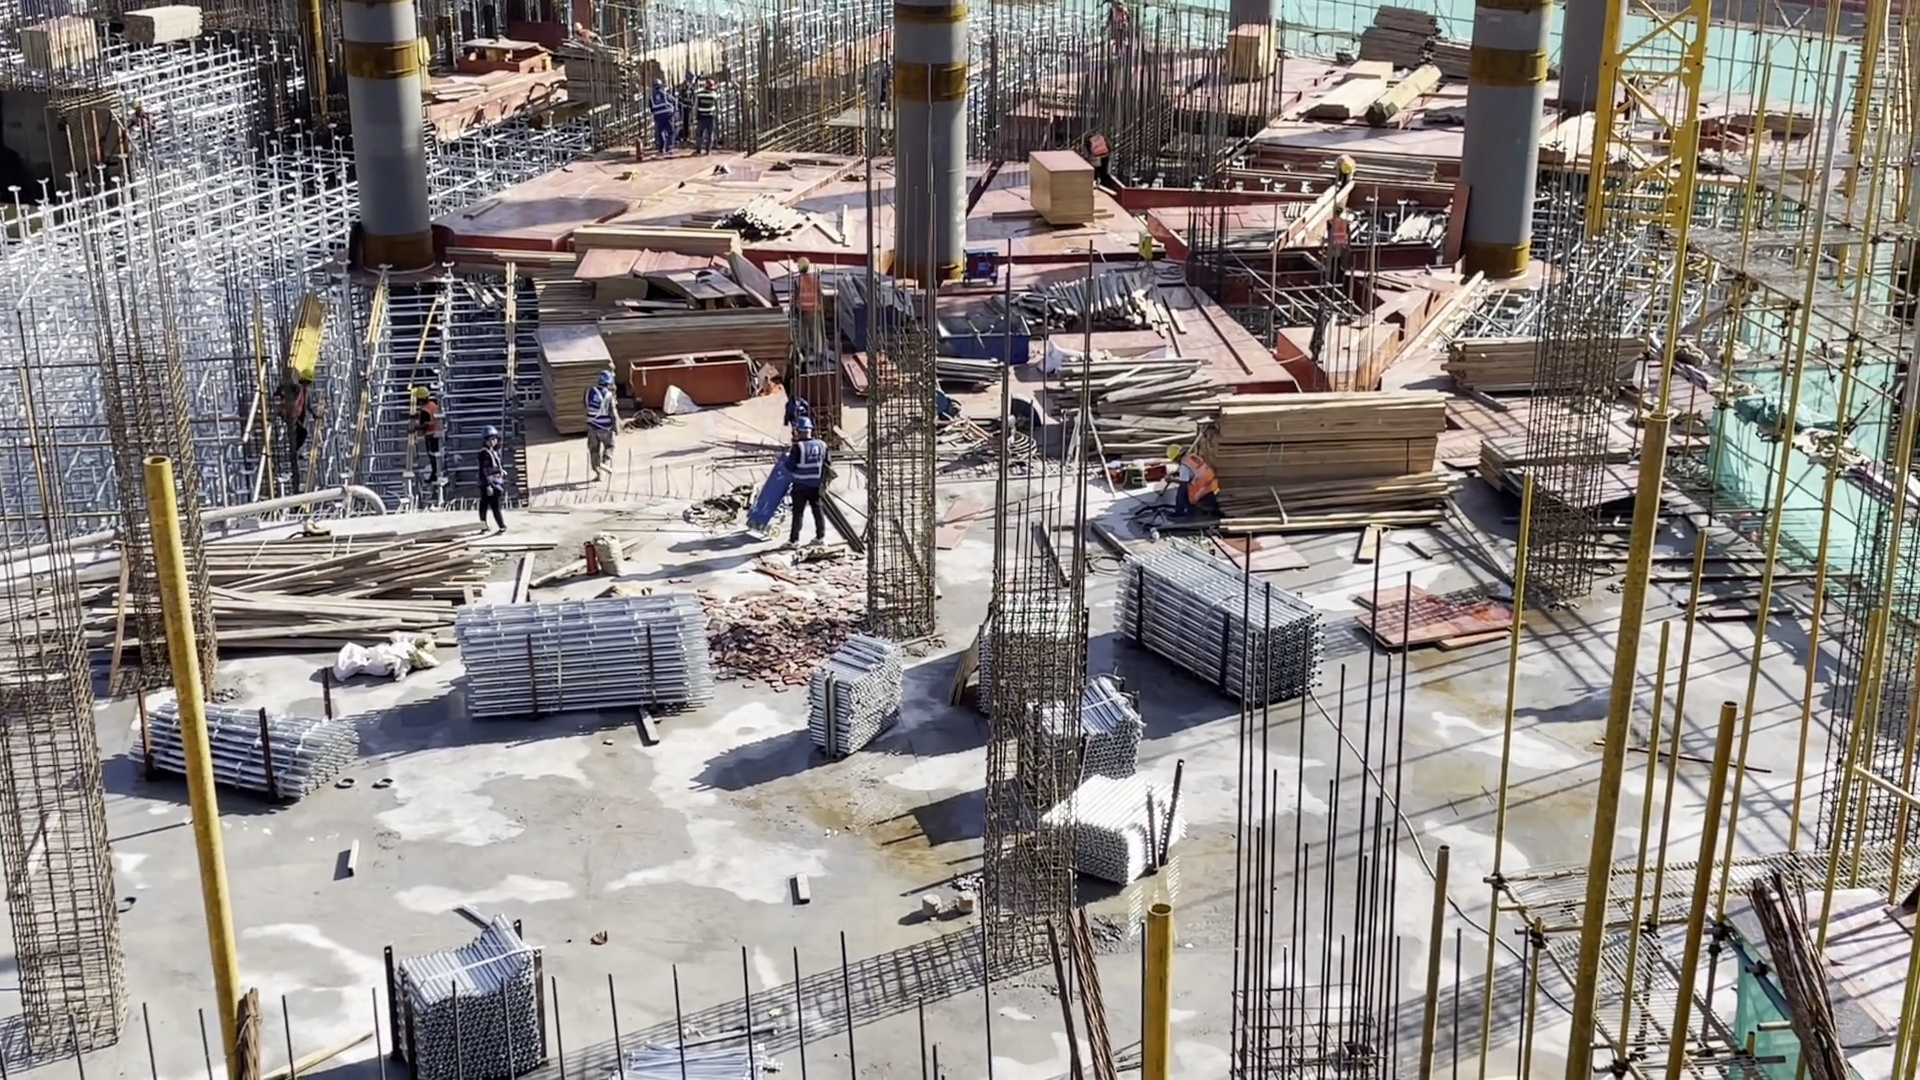board: (535, 327, 615, 432), (535, 262, 588, 327)
person: (781, 417, 824, 540), (580, 368, 622, 477), (1168, 440, 1222, 520), (471, 423, 506, 529), (280, 362, 315, 466), (407, 382, 446, 478), (786, 259, 822, 356), (644, 78, 669, 160), (693, 76, 716, 164), (1082, 128, 1109, 192), (1325, 204, 1347, 281), (677, 71, 693, 146), (1335, 153, 1356, 194)
scaffold: (1116, 546, 1320, 710), (459, 596, 711, 714), (139, 697, 370, 801), (392, 935, 547, 1065), (1054, 774, 1177, 884), (812, 635, 905, 757), (1058, 689, 1146, 773)
vest: (1180, 454, 1219, 502), (791, 439, 829, 486), (585, 388, 616, 434), (788, 275, 820, 316), (285, 386, 312, 418), (413, 402, 438, 435), (695, 89, 715, 120), (1326, 216, 1347, 246), (649, 95, 670, 121), (1085, 135, 1108, 158)
wood: (1208, 399, 1467, 526), (1092, 360, 1207, 460), (1443, 327, 1552, 388), (607, 318, 781, 354), (581, 220, 736, 251), (1378, 64, 1441, 124), (722, 198, 805, 240)
